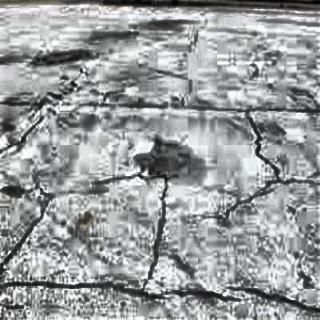alligator-crack: (2, 29, 320, 318)
